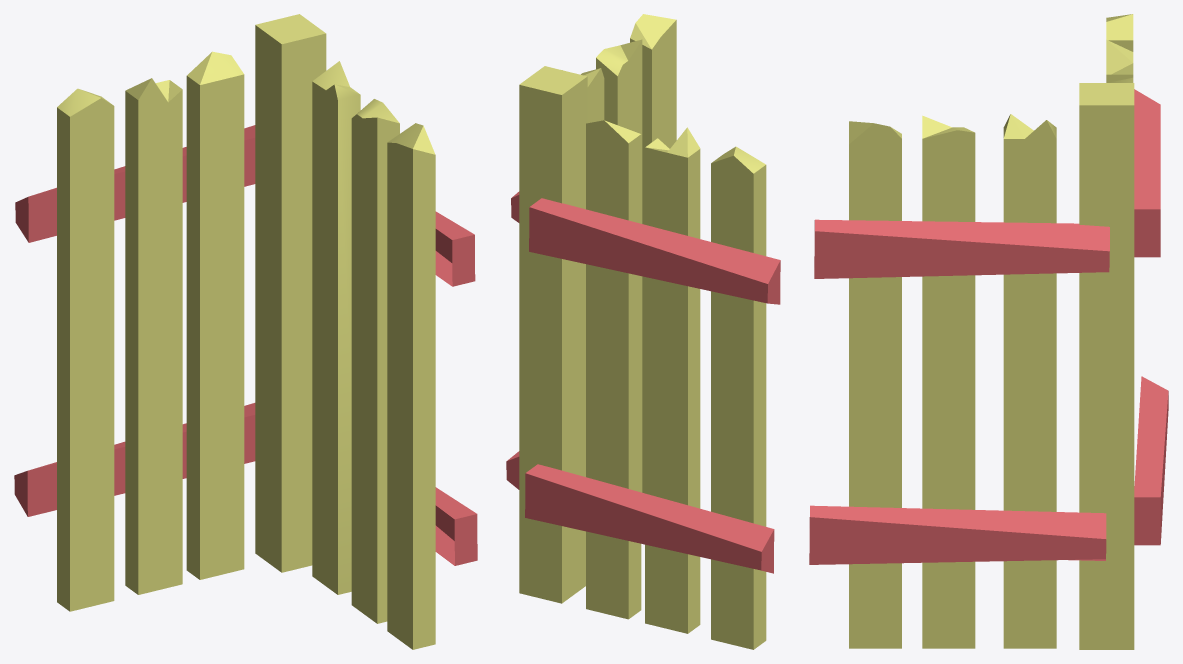
File: Fence_Corner.fbx
3 renders of one model, left to right at view 1: azimuth 30°, elevation 25°; view 2: azimuth 150°, elevation 25°; view 3: azimuth 270°, elevation 25°, orthographic. The views are drawn at different scales.
Parts seen in each view (by area): view 1: Cube.037, Cube.038; view 2: Cube.037, Cube.038; view 3: Cube.037, Cube.038.
Boxes of the visible parts, x1,y1,x2,y2 form: Cube.037: [57, 14, 435, 649]; Cube.038: [14, 125, 477, 565]; Cube.037: [519, 14, 766, 649]; Cube.038: [506, 191, 780, 573]; Cube.037: [849, 14, 1134, 649]; Cube.038: [809, 89, 1168, 564].
Bounding box in the file's own units: 132 × 224 × 134.
